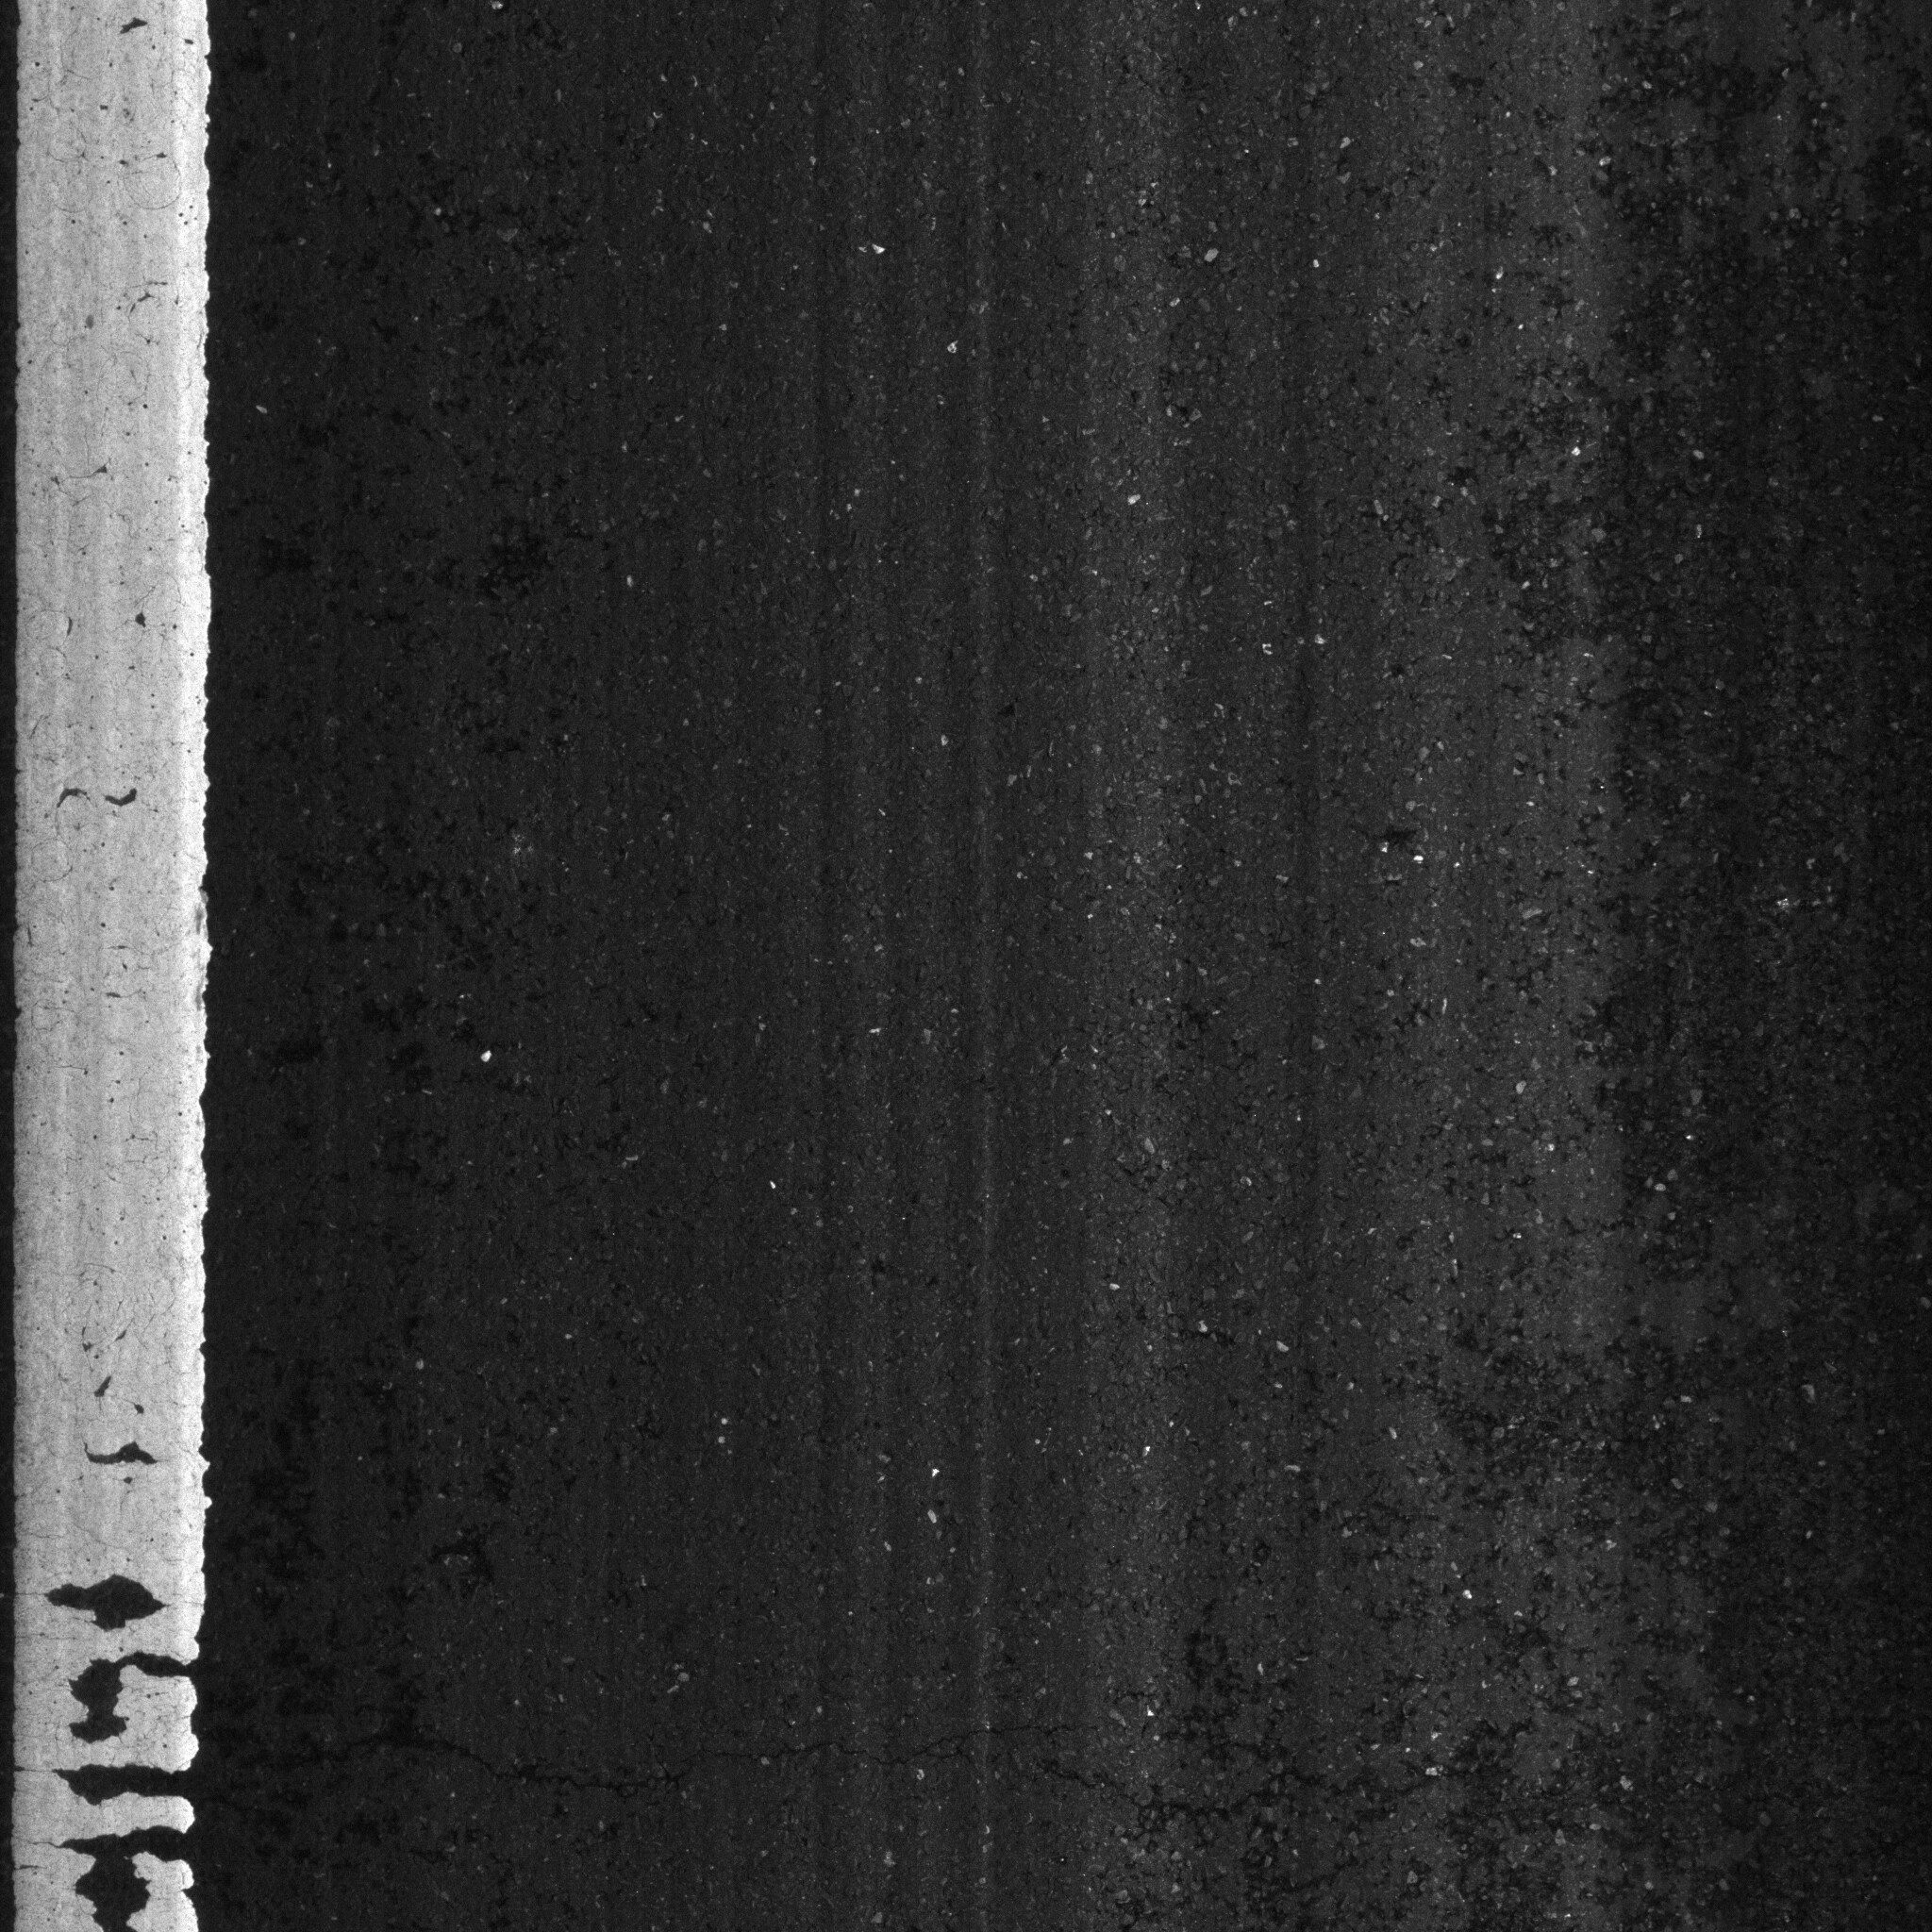transeverse: (223, 1707, 1527, 1840)
